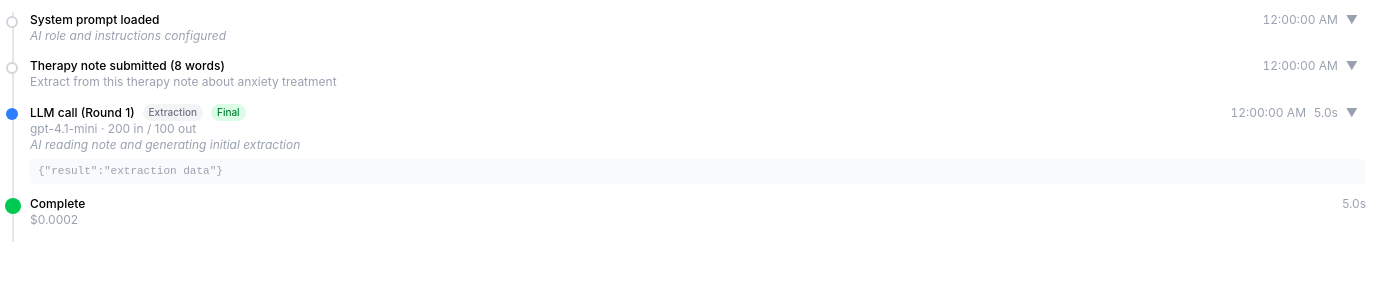
Test: ActivityView › expands details when clicked
The width and height of the screenshot is (1378, 295).
Click the text "System prompt loaded".
click(95, 20)  # box top-left (30, 12), bottom-right (160, 28)
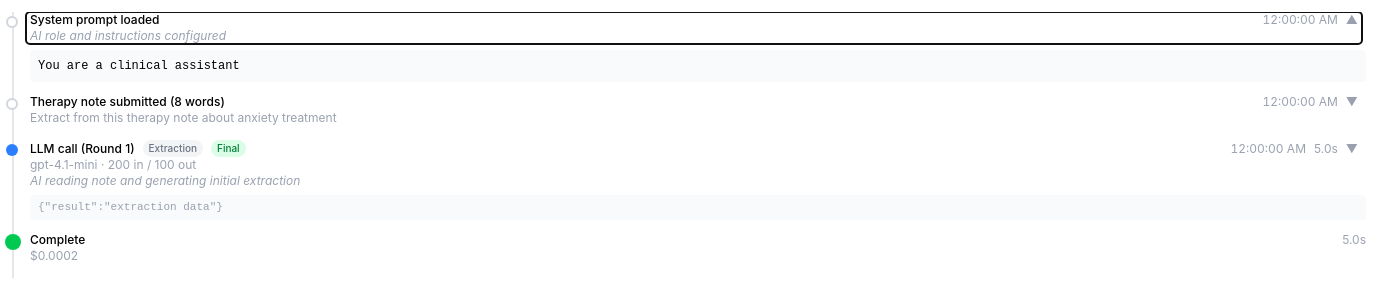
Expected: the text "You are a clinical assistant" is shown, top-left (30, 50), bottom-right (1366, 82)
